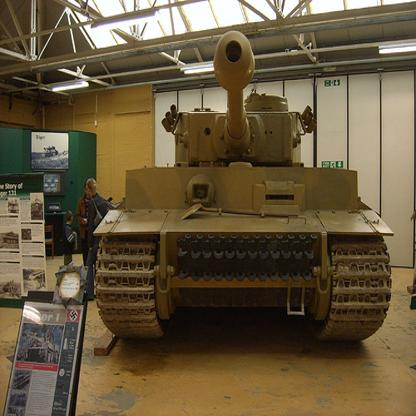Tank: (95, 29, 400, 359)
